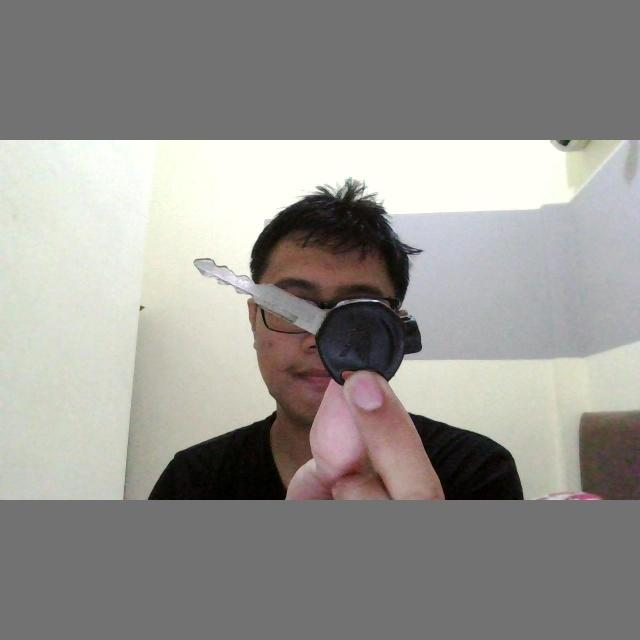Keys: (193, 235, 427, 402)
